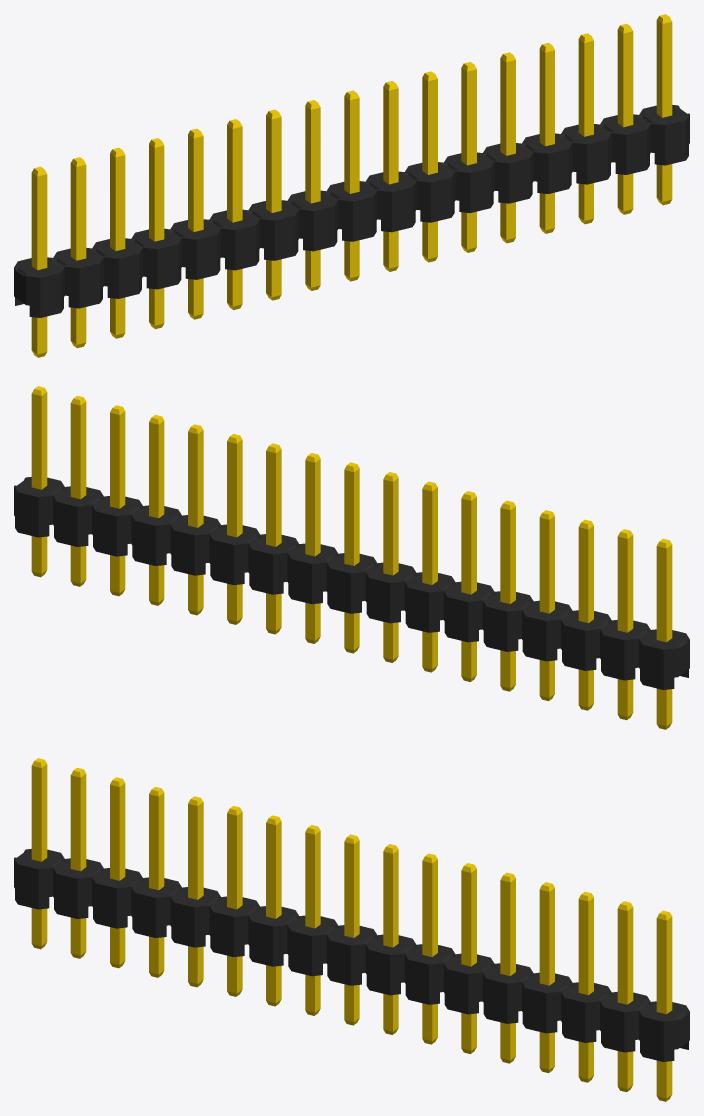
The model's file is PLS17.glb.
The picture shows the model from 3 angles, top to bottom: view 1: azimuth 30°, elevation 25°; view 2: azimuth 150°, elevation 25°; view 3: azimuth 330°, elevation 25°; orthographic projection.
Parts seen in each view (by area): view 1: PLS (DS1021 CONNFLY); view 2: PLS (DS1021 CONNFLY); view 3: PLS (DS1021 CONNFLY).
Boxes of the visible parts, x1,y1,x2,y2 form: PLS (DS1021 CONNFLY): (14, 14, 689, 357); PLS (DS1021 CONNFLY): (14, 386, 689, 729); PLS (DS1021 CONNFLY): (14, 758, 689, 1101).
Bounding box in the file's own units: 0.0432 × 0.0116 × 0.00254.
